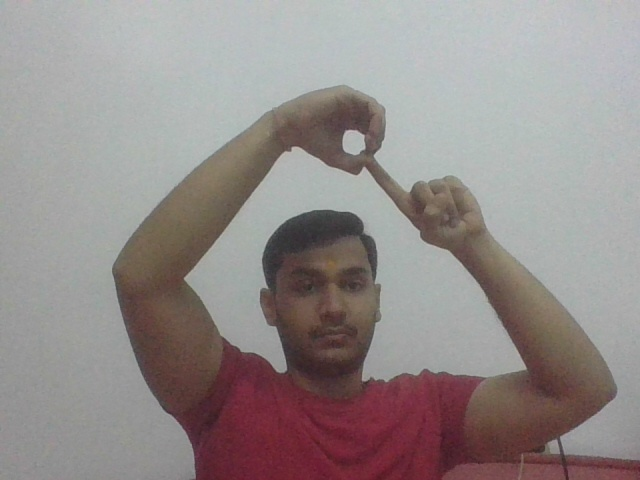Q: (296, 79, 470, 209)
